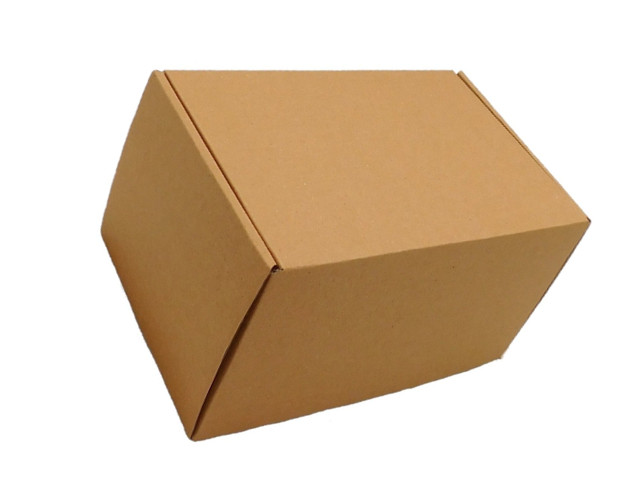cardboard: (104, 72, 591, 438)
